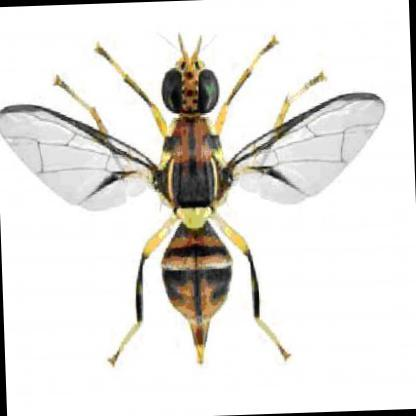fruit fly: (0, 40, 387, 365)
